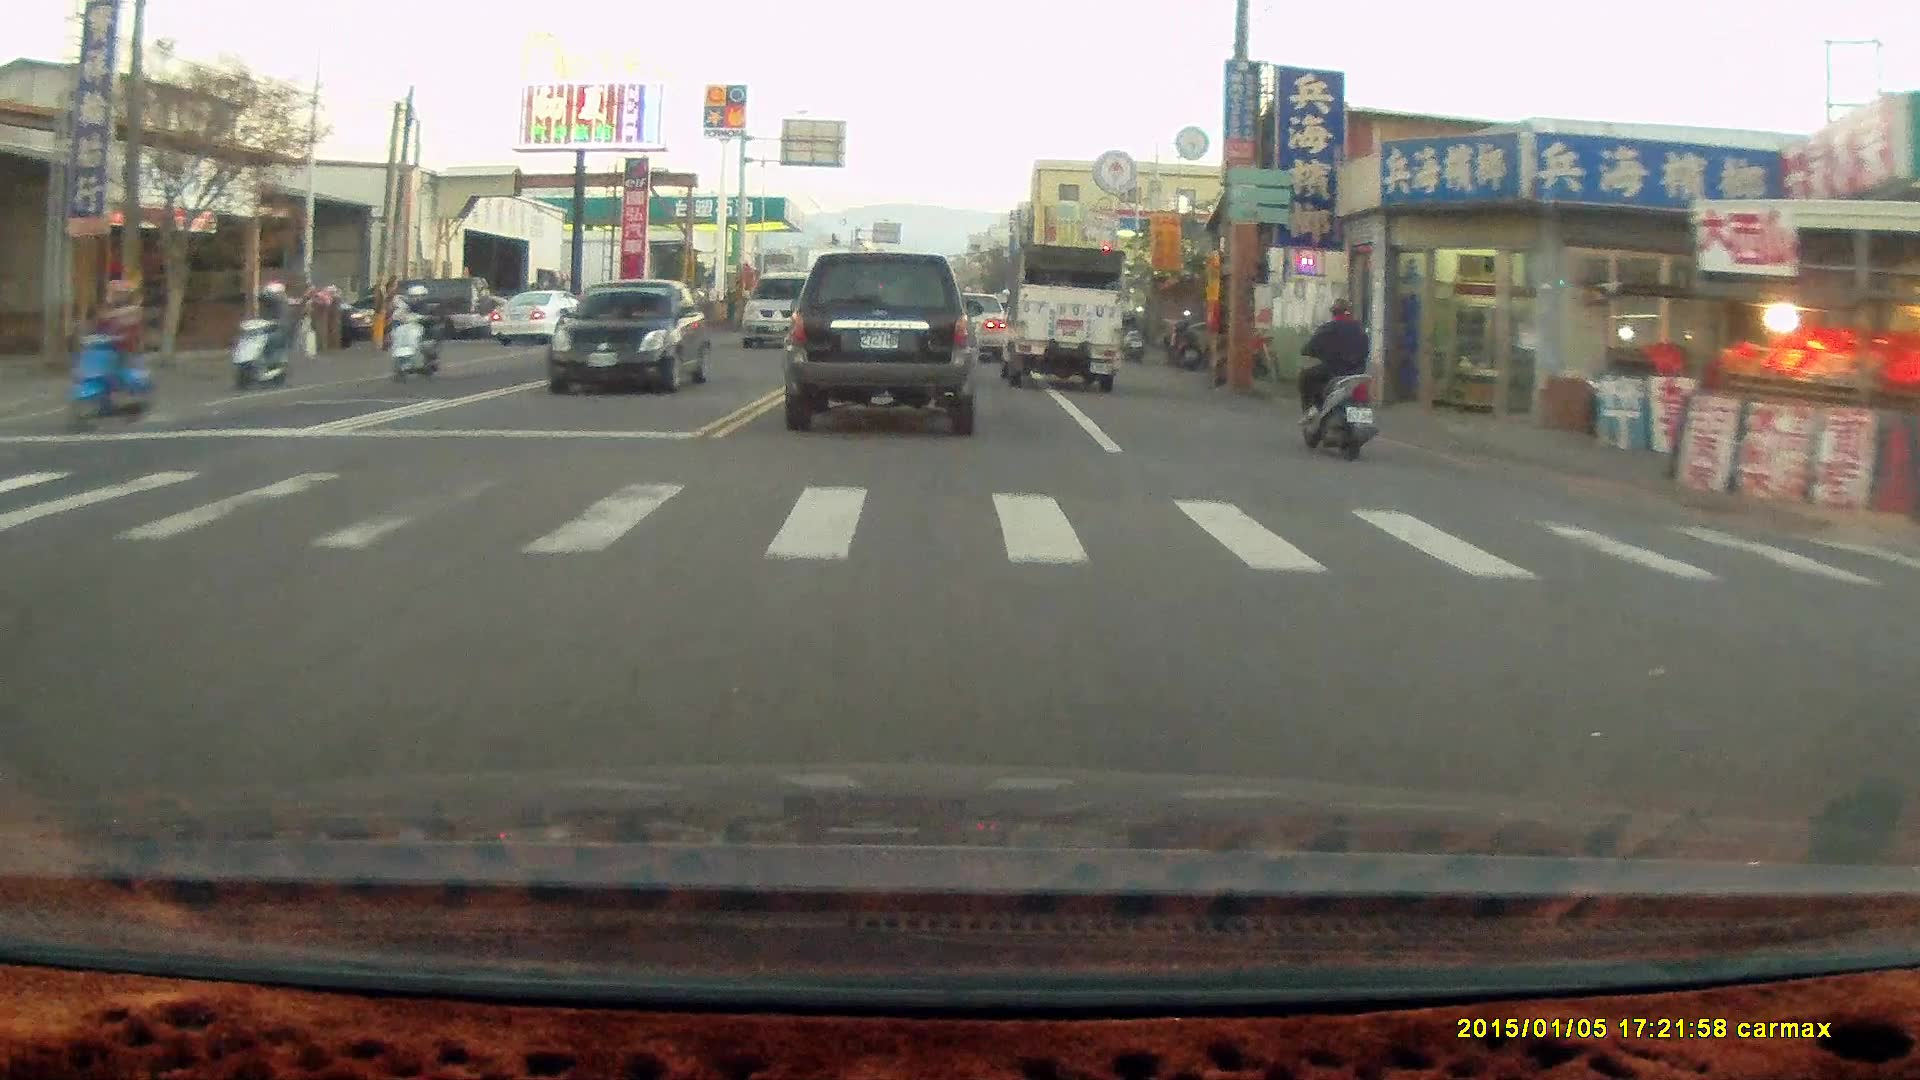rider: (1285, 283, 1377, 449), (60, 274, 148, 431), (225, 277, 295, 390), (382, 283, 443, 383)
vehicle: (780, 253, 984, 435), (995, 242, 1123, 393), (551, 281, 713, 395), (739, 270, 828, 349), (499, 291, 608, 350), (935, 292, 1008, 365)
